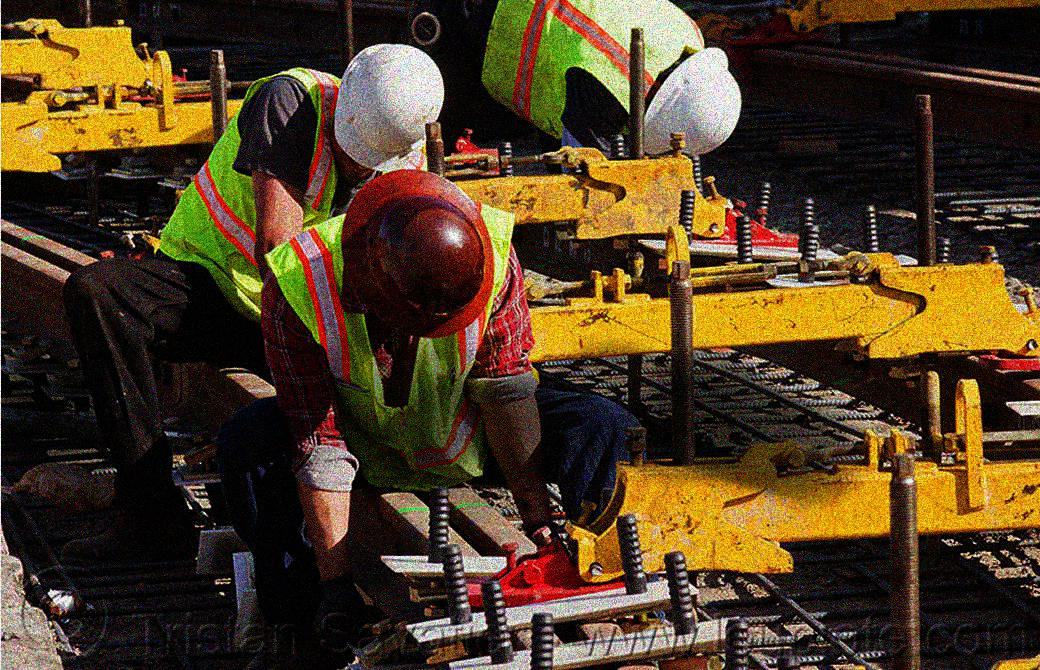helmet: (341, 169, 496, 340), (333, 40, 448, 186), (623, 35, 748, 165)
